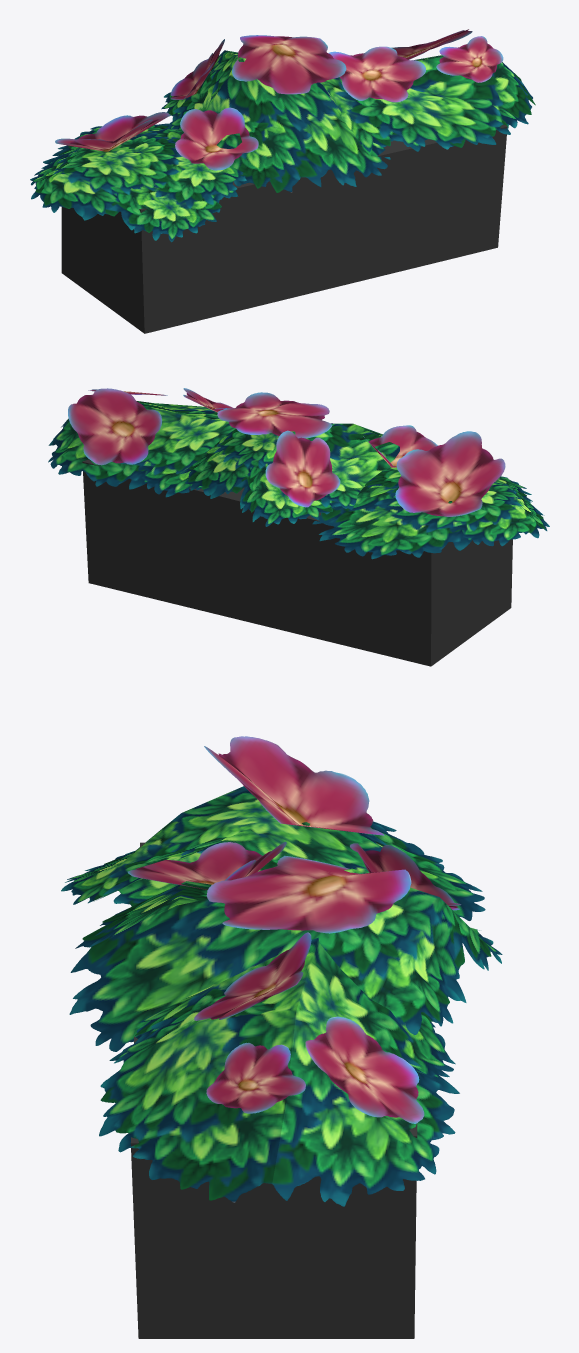
The model's file is SM_PROP_PLANT_pot_v1_03.FBX.
3 renders of one model, top to bottom at view 1: azimuth 30°, elevation 25°; view 2: azimuth 150°, elevation 25°; view 3: azimuth 270°, elevation 25°, orthographic. The views are drawn at different scales.
Visible parts, largest first — view 1: SM_PROP_PLANT_pot_v1_03; view 2: SM_PROP_PLANT_pot_v1_03; view 3: SM_PROP_PLANT_pot_v1_03.
Part boxes in pixels (bbox=[...]): SM_PROP_PLANT_pot_v1_03: bbox=[30, 29, 535, 333]; SM_PROP_PLANT_pot_v1_03: bbox=[48, 388, 549, 666]; SM_PROP_PLANT_pot_v1_03: bbox=[61, 736, 502, 1338].
Size of the model in its own units: 109 by 59.85 by 42.93.
